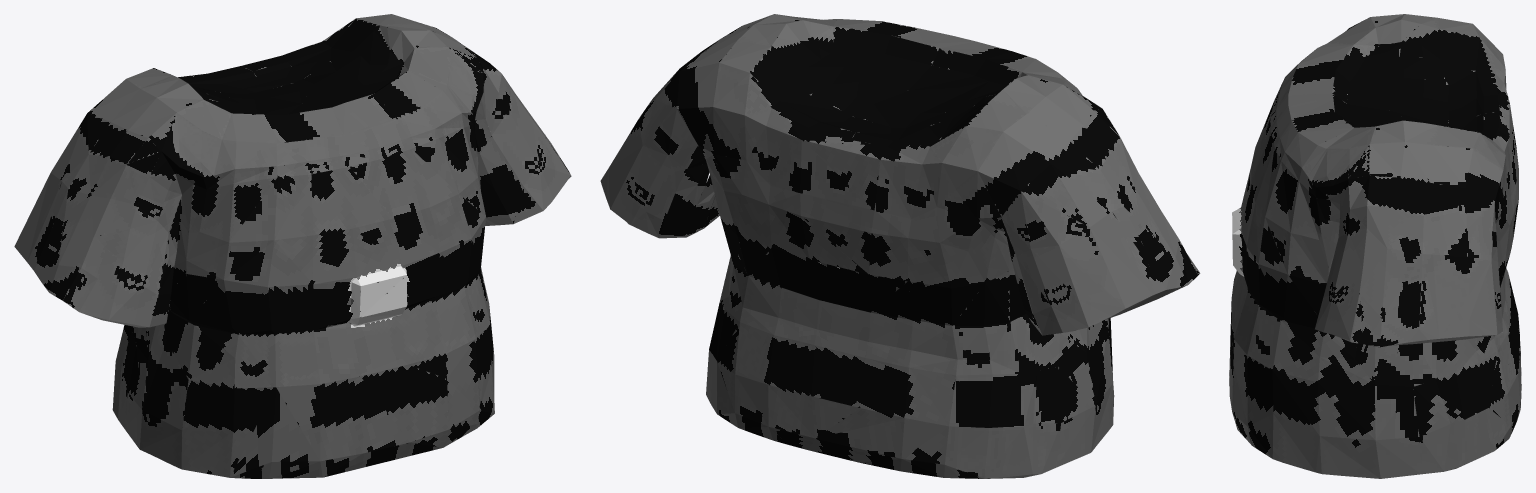
The picture shows the model from 3 angles, left to right: view 1: azimuth 30°, elevation 25°; view 2: azimuth 150°, elevation 25°; view 3: azimuth 270°, elevation 25°; orthographic projection. The views are drawn at different scales.
Visible parts, largest first — view 1: OBJ021; view 2: OBJ021; view 3: OBJ021.
Part boxes in pixels (<box>): OBJ021: <box>14,14,571,478</box>; OBJ021: <box>600,14,1200,478</box>; OBJ021: <box>1229,14,1521,478</box>.
Size of the model in its own units: 0.3136 by 0.2041 by 0.1601.
Materials: 1 (1 with a texture image).
